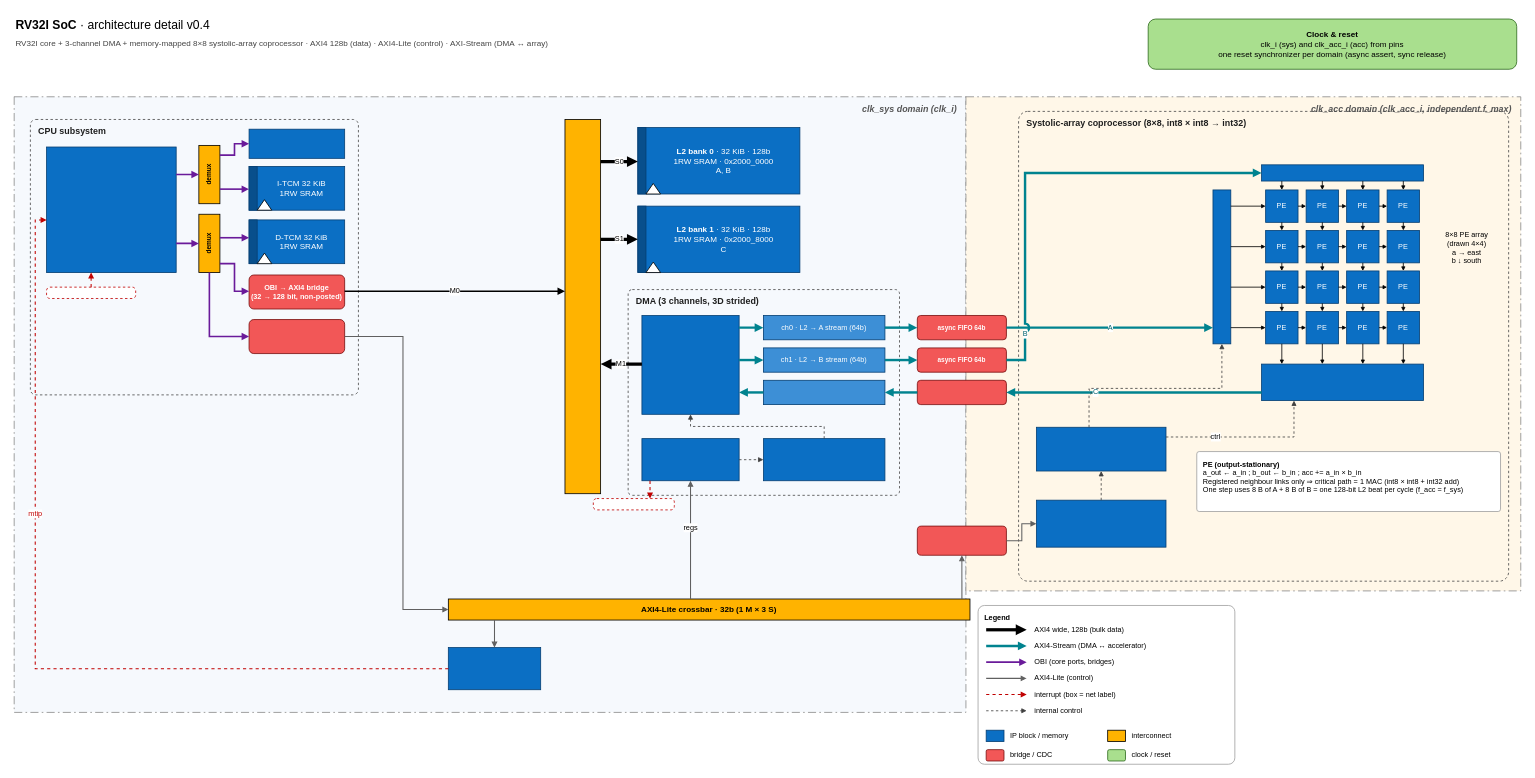
This 1535x778 diagram has some shape labels left out. The centre of each missing label's shape, as x and y in pixels:
"3D address gen. one per channel" goes at [824,459].
"async FIFO 128b" goes at [961,392].
"AXI4 crossbar — 128b (2 M × 2 S)" goes at [582,306].
"AXI4 master 128b INCR bursts split at 4 KiB reads ∥ writes" goes at [690,364].
"AXI4-Lite CDC" goes at [961,540].
"Boot ROM 4 KiB" goes at [296,143].
"ch2 · C stream (128b) → L2" goes at [824,392].
"irq_dma ▶ core meip" goes at [633,504].
"irq_dma ▶ meip" goes at [91,292].
"OBI → AXI4-Lite bridge (non-posted)" goes at [296,336].
"Output drain 8×8 int32 tile → C stream" goes at [1342,382].
"Registers (AXI4-Lite) 8 per channel" goes at [690,459].
"Registers (AXI4-Lite) CTRL · STATUS DIM_M · DIM_N · DIM_K" goes at [1101,523].
"RV32I core 5-stage pipeline + Zicsr, M-mode traps OBI I-port OBI D-port" goes at [111,209].
"skew" goes at [1221,266].
"skew (diagonal delay)" goes at [1342,172].
"Tile sequencer (M/8)·(N/8) tiles, K steps each stalls while a FIFO is empty" goes at [1101,448].
"Timer mtime · mtimecmp" goes at [494,668].
